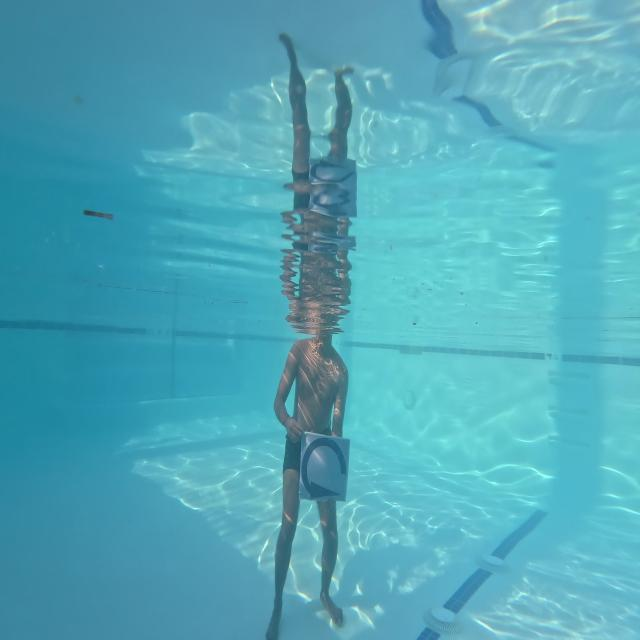blue_side: (301, 427, 354, 511)
